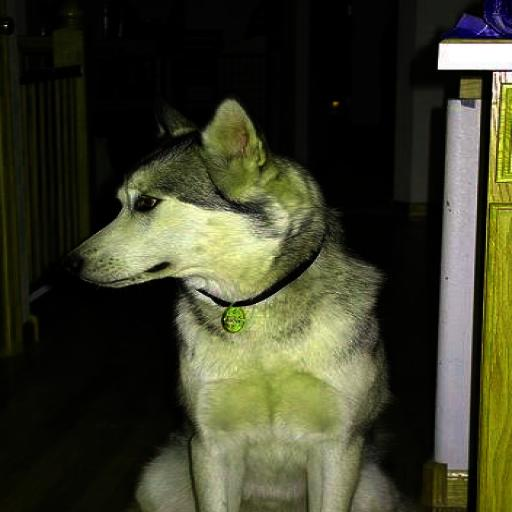dog_face: (73, 102, 296, 305)
